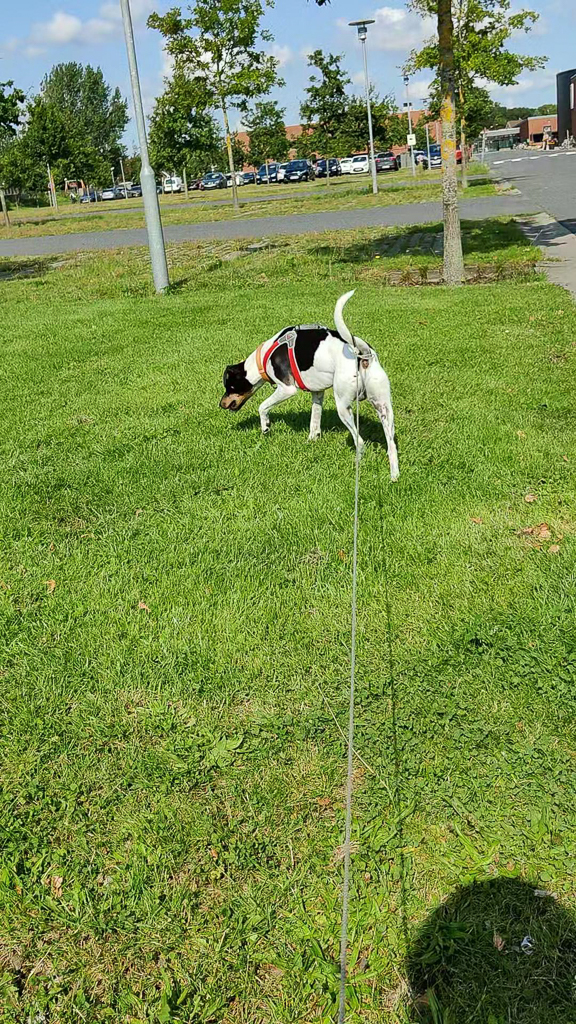Dog: (207, 281, 411, 489)
